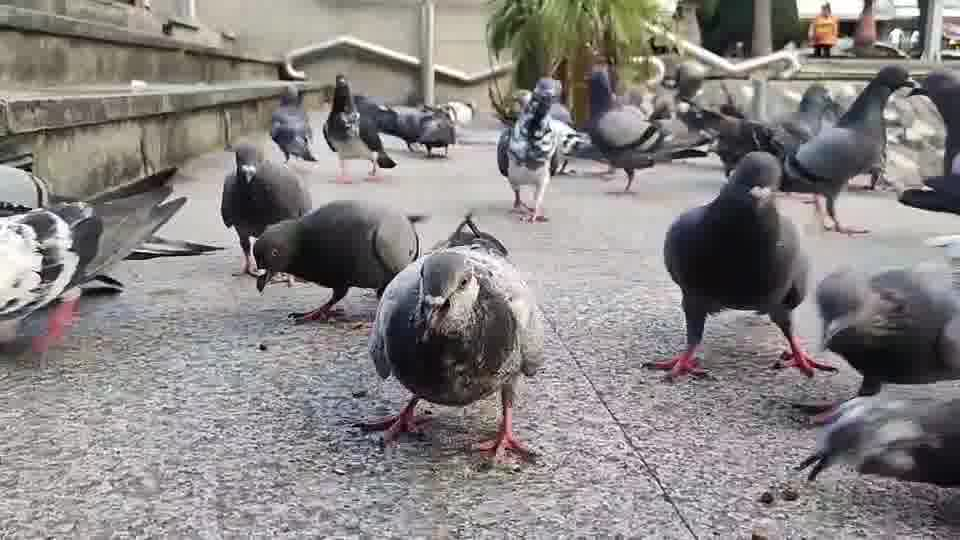Pigeon: (640, 150, 838, 380), (359, 243, 545, 458), (792, 262, 959, 487), (0, 163, 223, 323), (782, 63, 918, 235), (251, 198, 431, 325), (792, 386, 959, 487), (219, 142, 311, 279), (585, 54, 669, 192), (490, 76, 563, 223), (896, 68, 959, 213), (321, 73, 383, 183), (268, 84, 318, 163)
